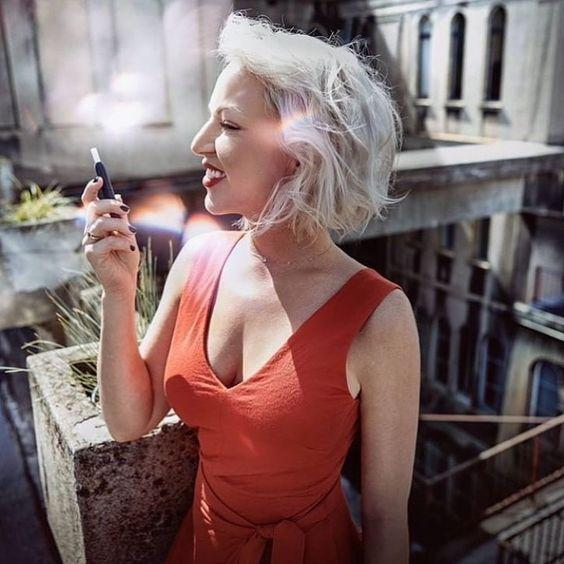iqos: (91, 147, 122, 219)
